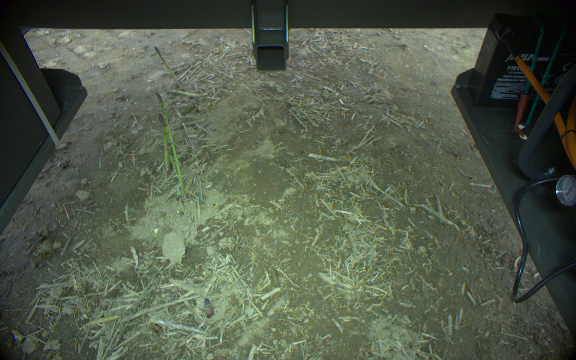aspa: (155, 90, 188, 200), (152, 45, 184, 90), (158, 112, 171, 175), (201, 295, 216, 320)
